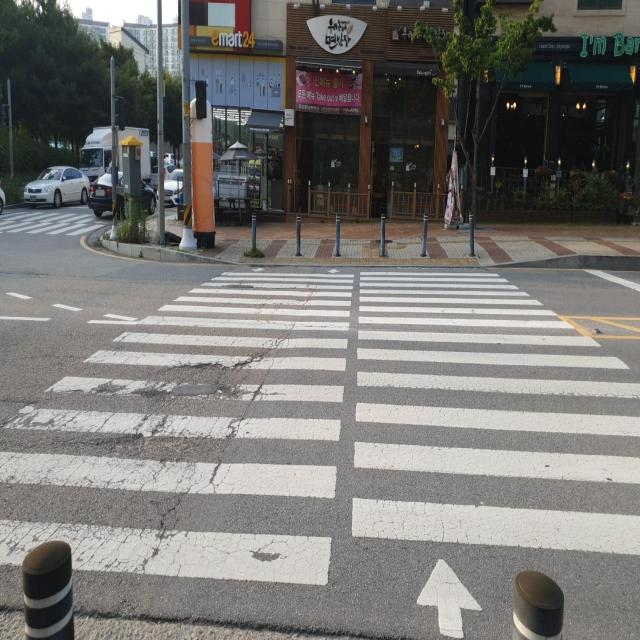횡단보도: (0, 263, 640, 640), (0, 209, 93, 239)
